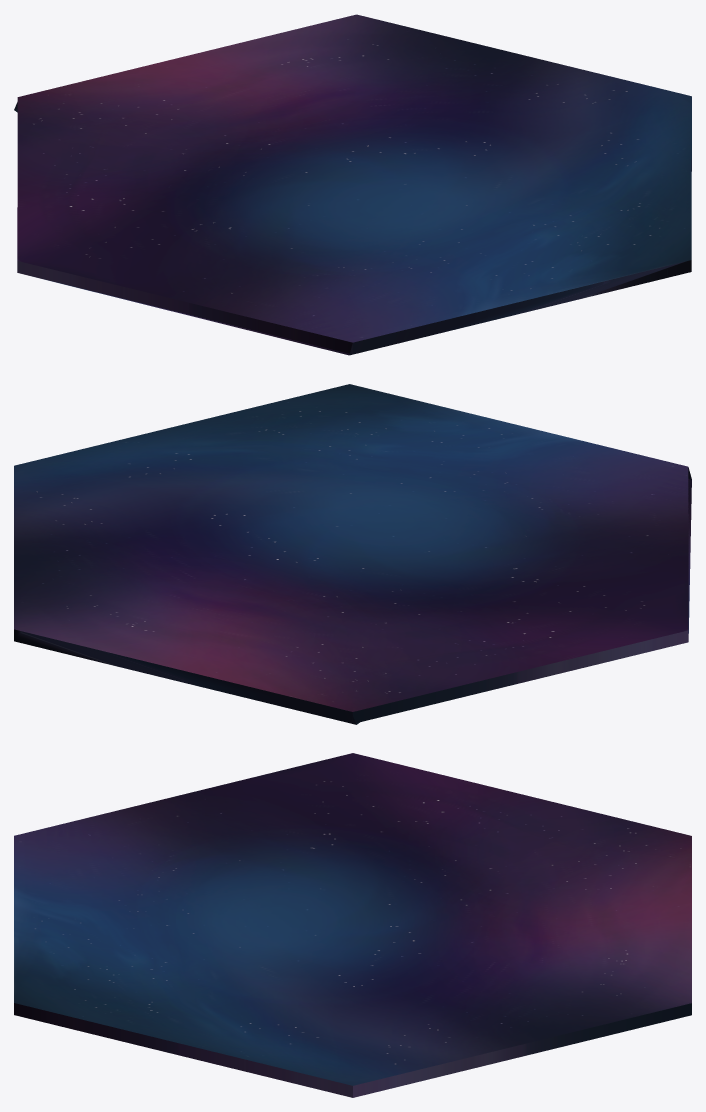
Rendered from MuseoBlender.glb.
3 renders of one model, top to bottom at view 1: azimuth 30°, elevation 25°; view 2: azimuth 150°, elevation 25°; view 3: azimuth 270°, elevation 25°, orthographic.
Parts seen in each view (by area): view 1: Piso; view 2: Piso; view 3: Piso.
Boxes of the visible parts, box(x1,y1,x2,y2) form: Piso: box(14, 14, 691, 355); Piso: box(14, 384, 691, 724); Piso: box(14, 753, 691, 1097).
Size of the model in its own units: 30.27 by 0.5131 by 26.06.
1 material, 1 textured.
